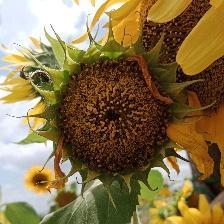sunflower: (14, 10, 219, 202)
